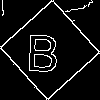B: (25, 25, 61, 72)
